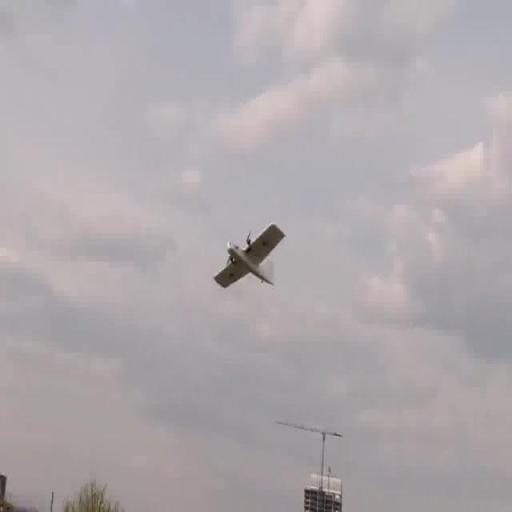uav: (214, 219, 286, 297)
